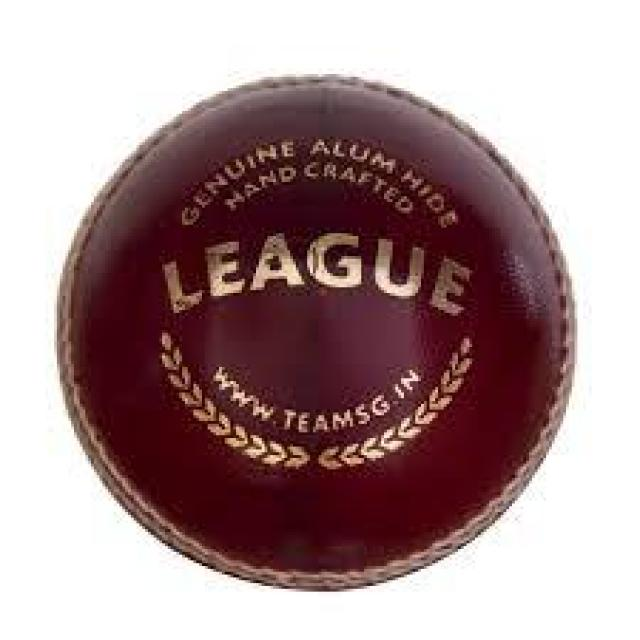ball: (46, 62, 589, 594)
